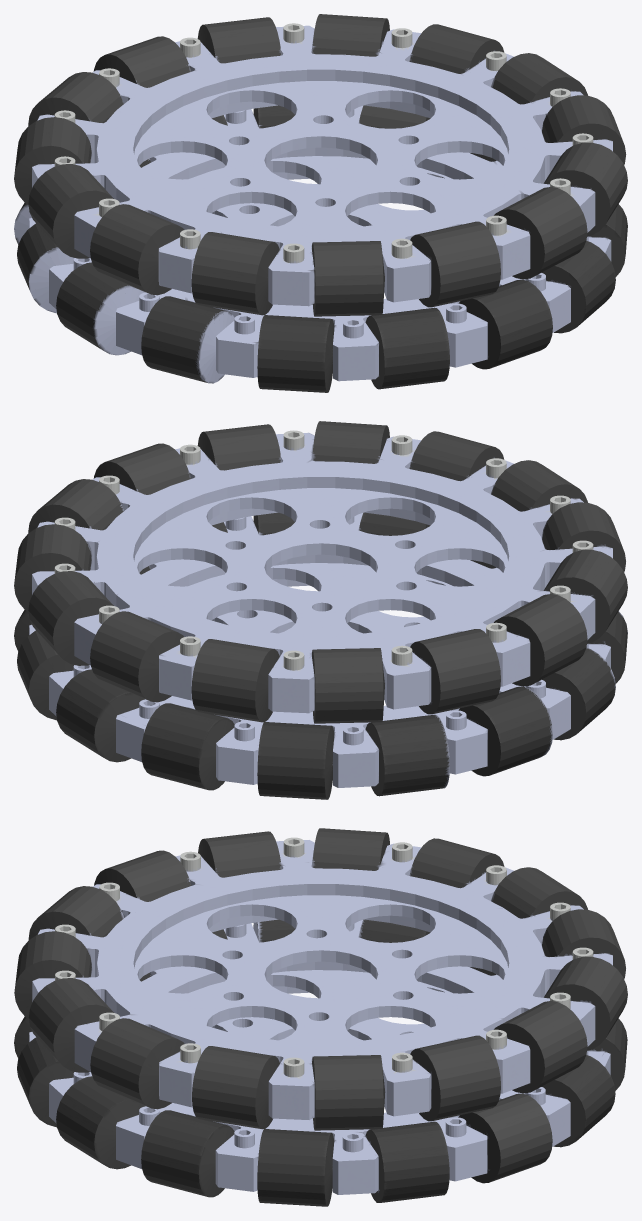
File: wheel2.dae
3 views of the same model, one above another, from view 1: azimuth 30°, elevation 25°; view 2: azimuth 150°, elevation 25°; view 3: azimuth 270°, elevation 25° (orthographic).
Visible parts, largest first — view 1: node; view 2: node; view 3: node.
Boxes of the visible parts, box(x1,y1,x2,y2) form: node: box(14, 14, 627, 392); node: box(14, 421, 627, 799); node: box(14, 828, 627, 1206).
Bounding box in the file's own units: 0.1492 × 0.038 × 0.1485.
1 material, 1 textured.
